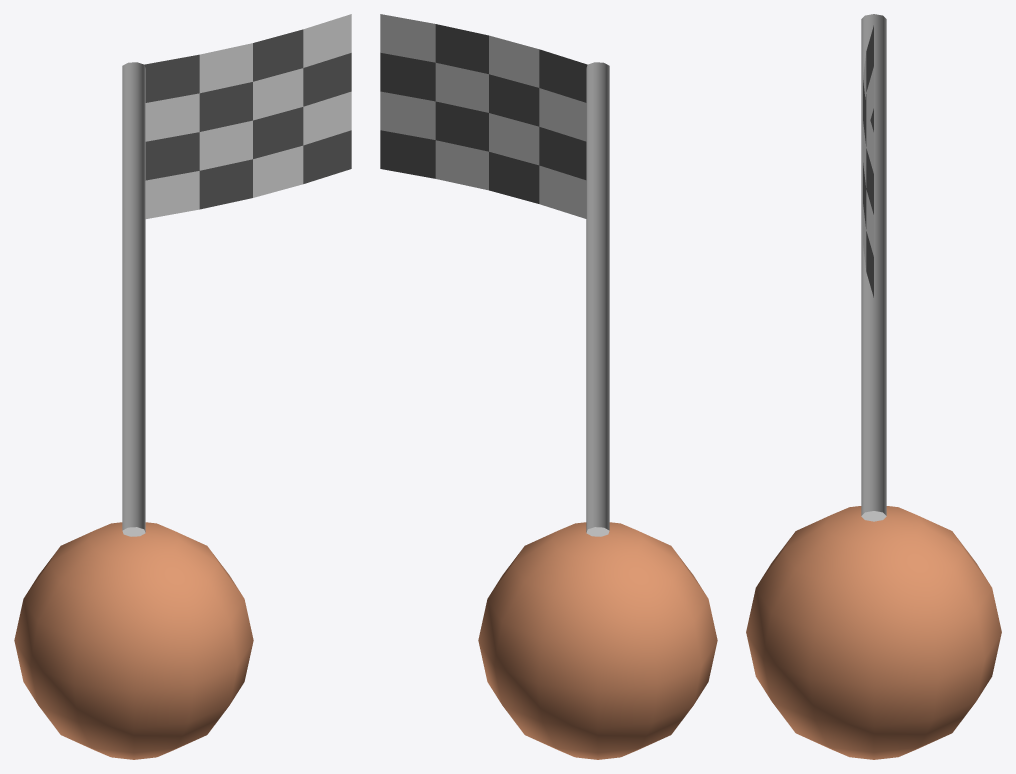
The model's file is buoy.glb.
3 renders of one model, left to right at view 1: azimuth 30°, elevation 25°; view 2: azimuth 150°, elevation 25°; view 3: azimuth 270°, elevation 25°, orthographic. The views are drawn at different scales.
Visible parts, largest first — view 1: Buoy; view 2: Buoy; view 3: Buoy.
Part boxes in pixels (bbox=[...]): Buoy: bbox=[14, 14, 351, 759]; Buoy: bbox=[380, 14, 717, 759]; Buoy: bbox=[746, 14, 1001, 759].
Bounding box in the file's own units: 1.09 × 2.2 × 0.7.
